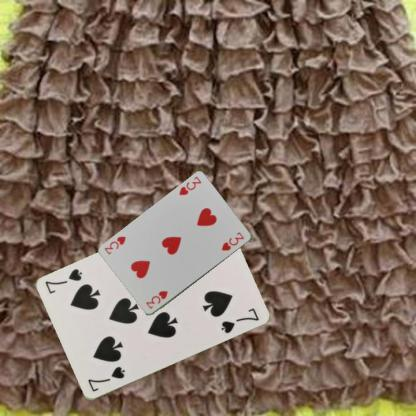3h: (176, 174, 202, 197), (144, 288, 170, 310)
7s: (85, 364, 126, 393)
